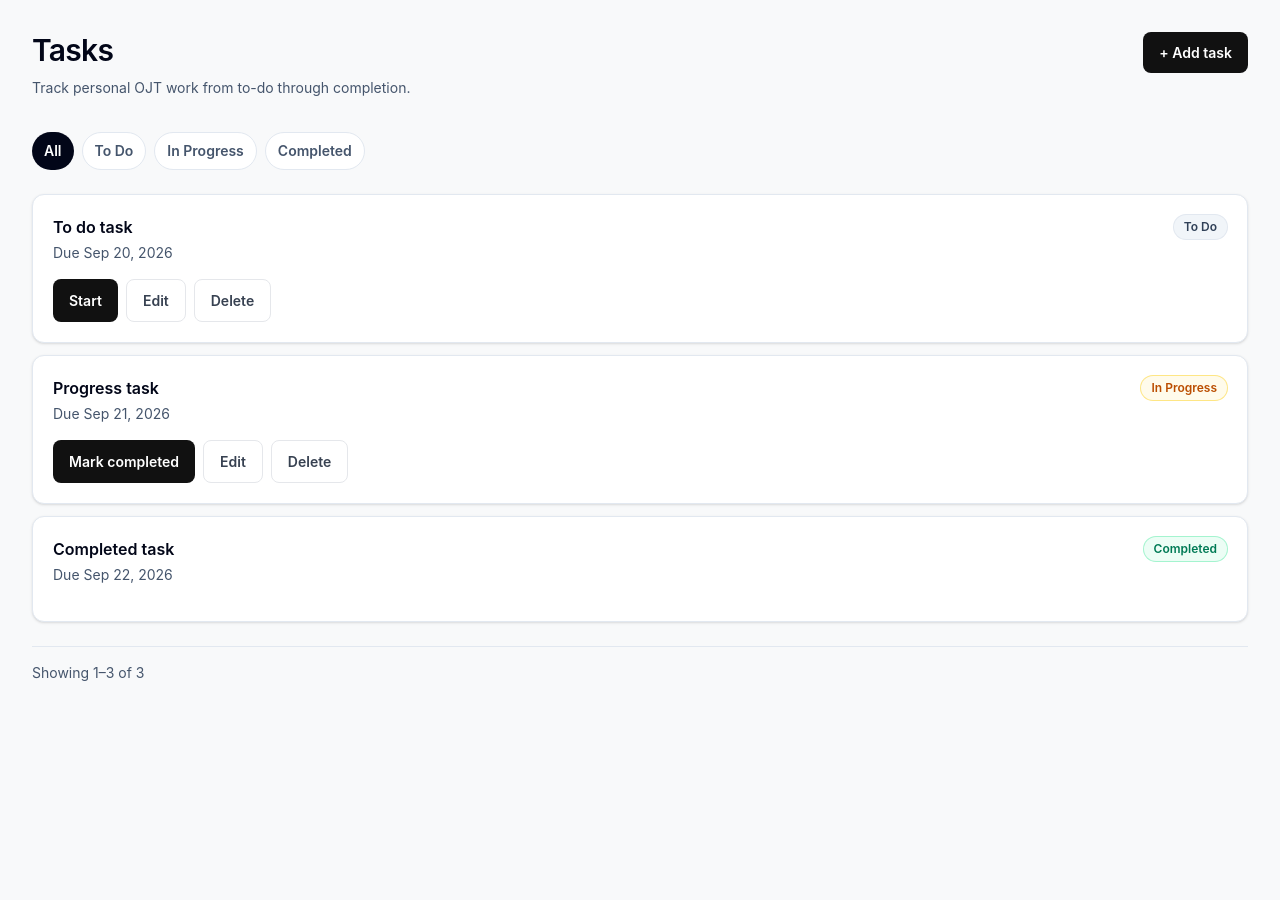
Test: student TasksView › limits task due dates to the internship period and today
Click the button with test id "add-task" at [1196, 52], box [1143,32,1248,73]
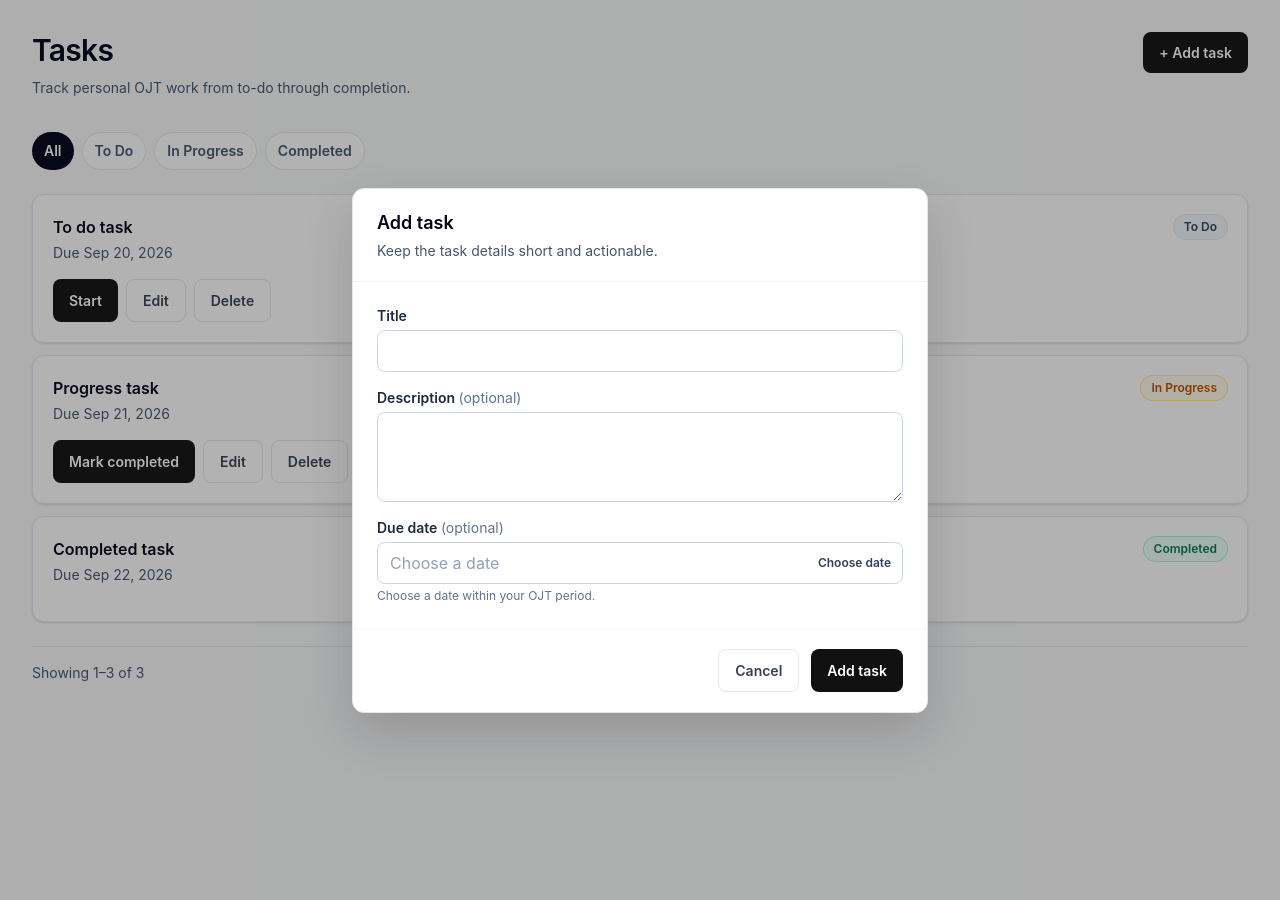
Click the field with id "task-due-date" at [640, 562], box [377,542,903,584]
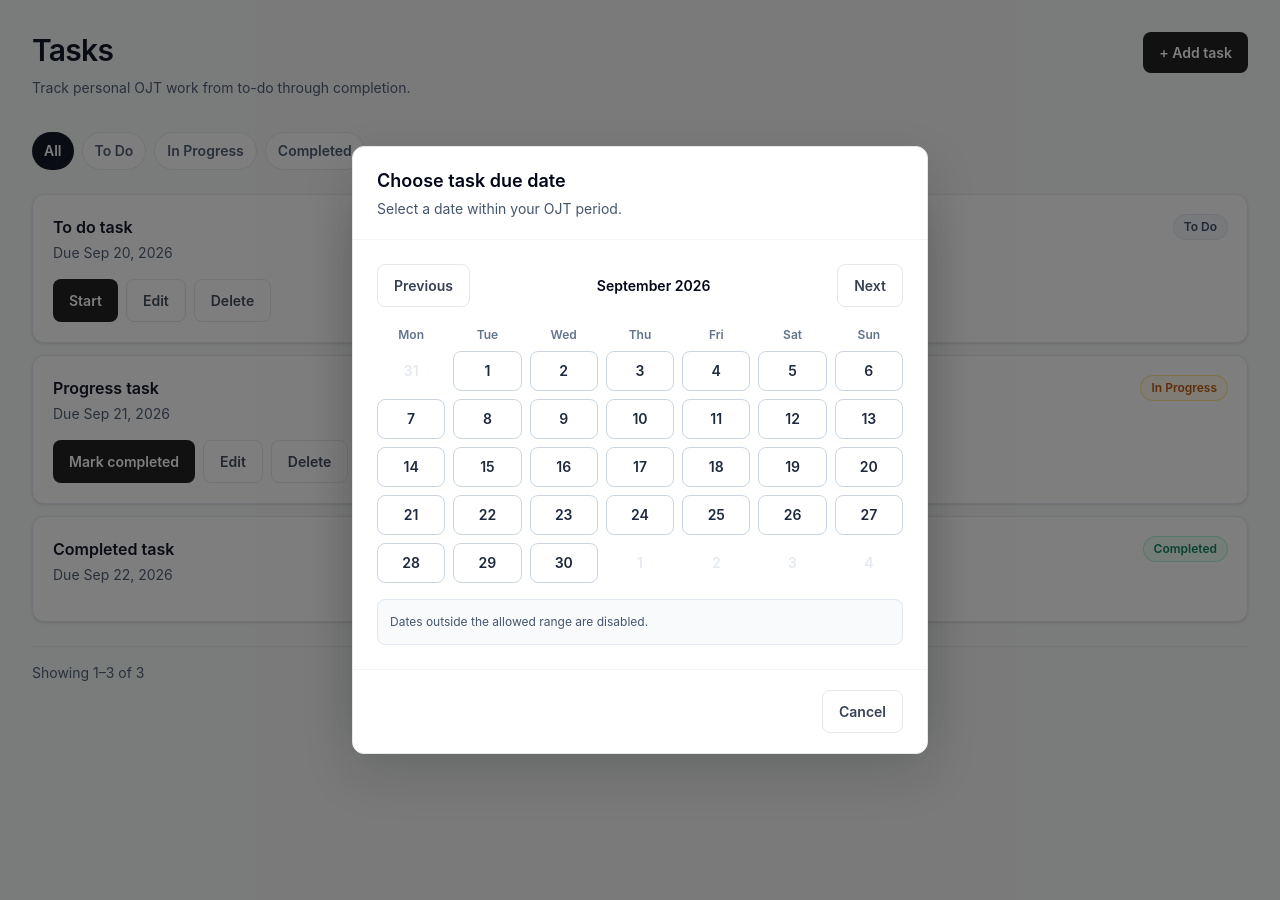
Expected: the element with test id "task-due-date-calendar" is shown, [377,264,903,645]
Expected: the button with test id "calendar-day-2026-08-31" is disabled, [377,351,445,391]
Expected: the button with test id "calendar-day-2026-09-01" is enabled, [453,351,522,391]
